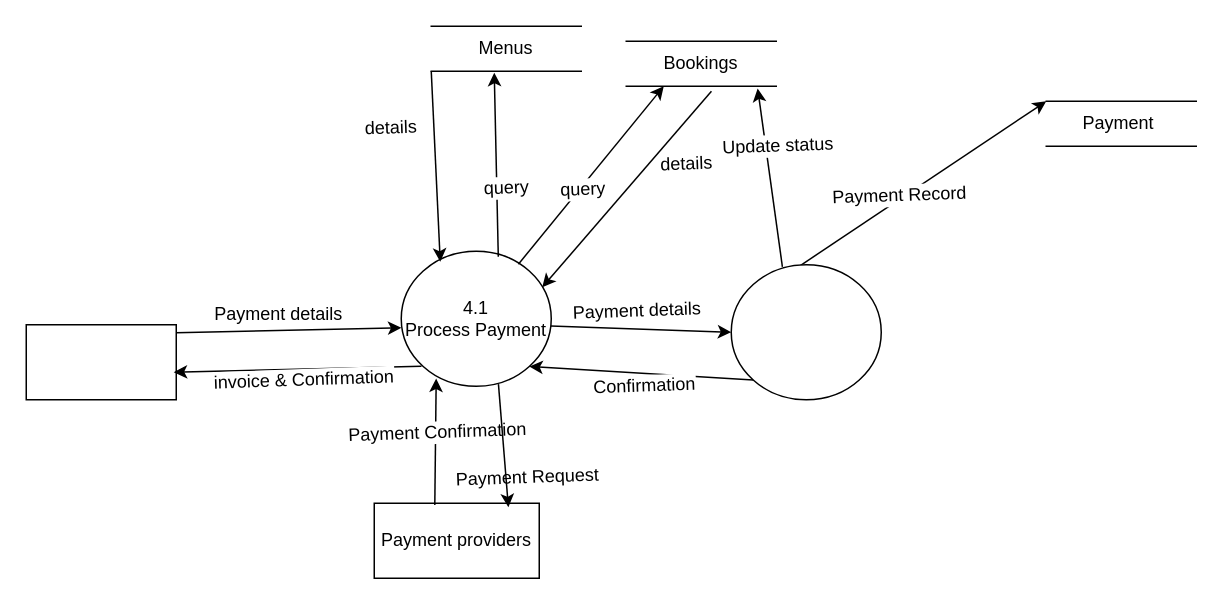
This 1223x605 diagram has some shape labels left out. The centre of each missing label's shape, as x and y in pixels:
"4.2 Update System Records" belongs at (805,331).
"user" belongs at (100,361).
